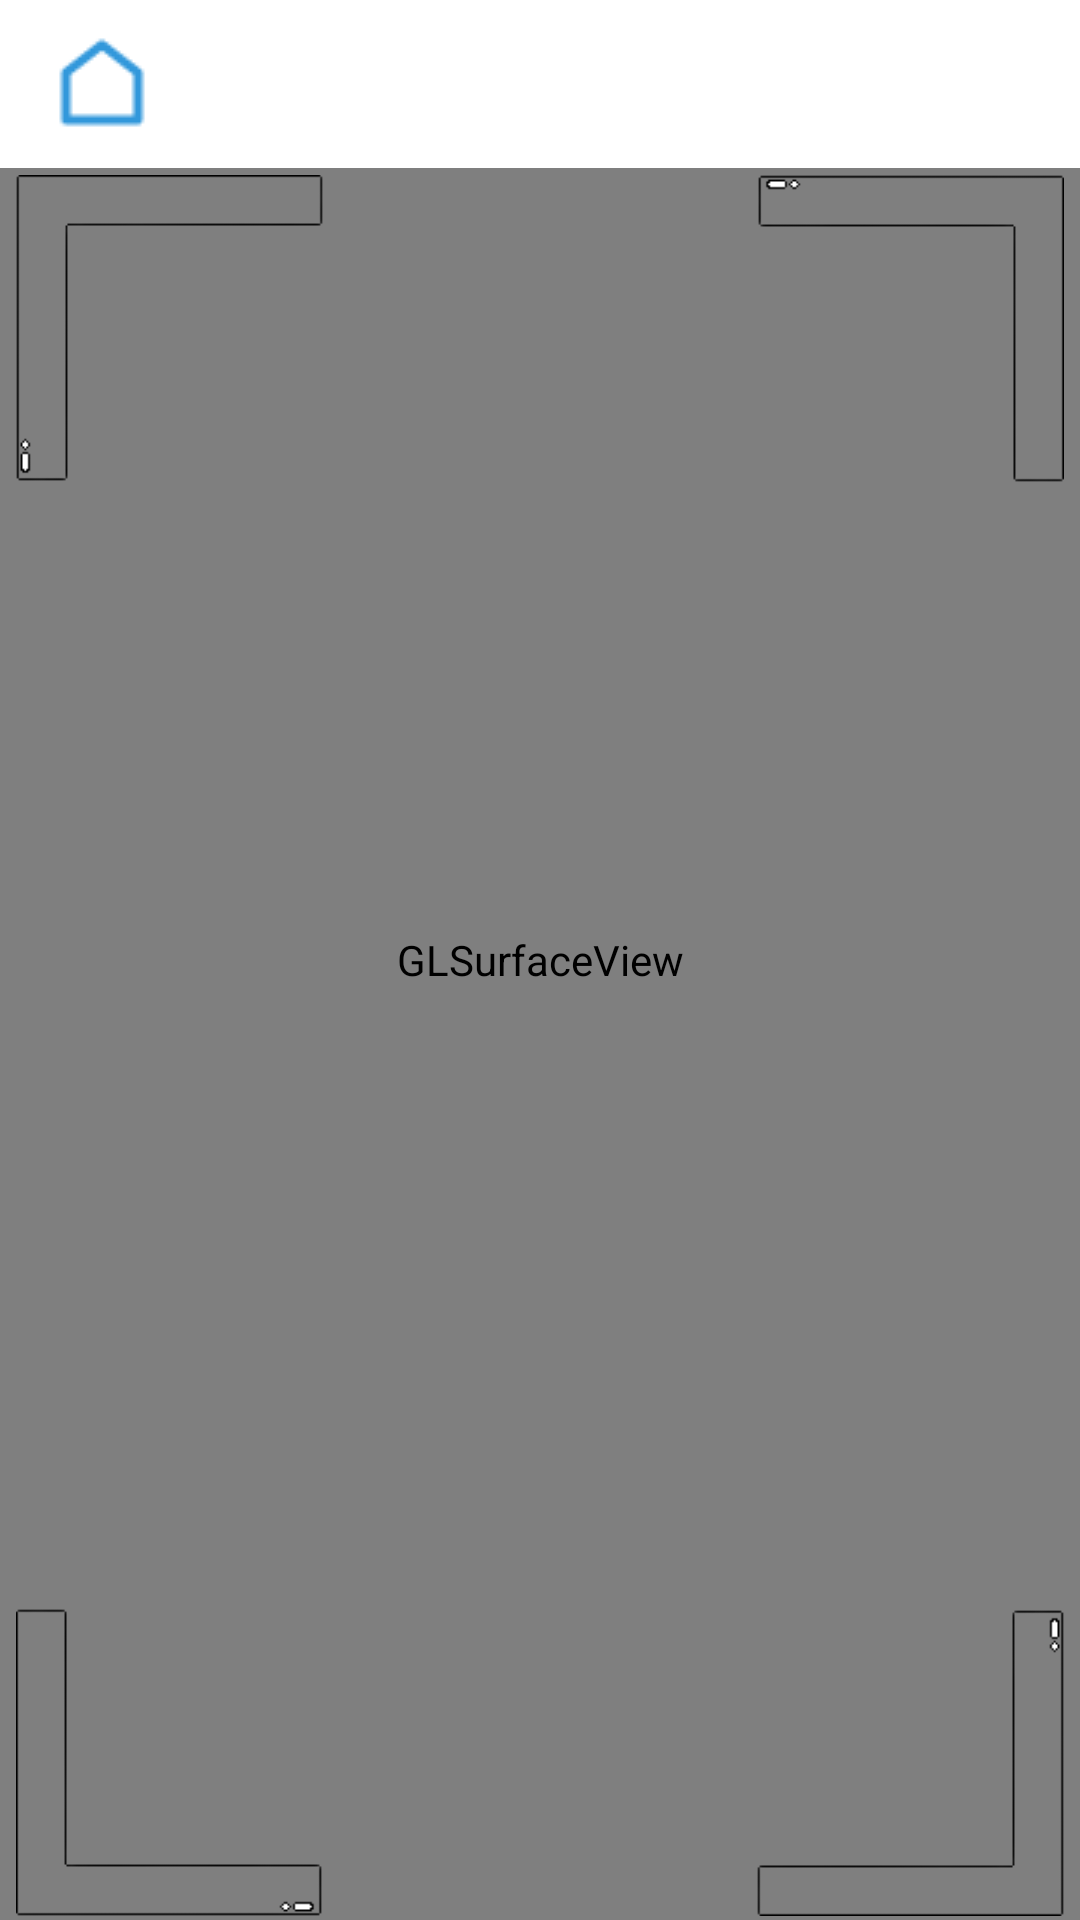

Screen size 1080*1920. Icon name, then its box in pixels as (x1, y1, x2, y2):
home: (59, 38, 145, 127)
